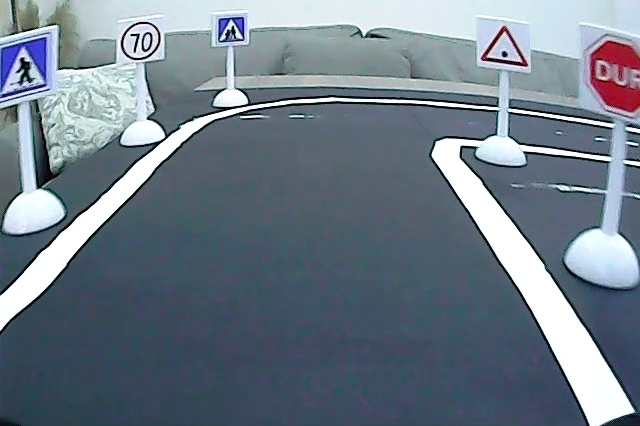green light: (478, 22, 531, 69)
pedestrian crossing: (1, 35, 51, 101)
school crossing: (215, 15, 247, 44)
speed limit 70: (119, 18, 161, 62)
stop sign: (581, 29, 640, 119)
